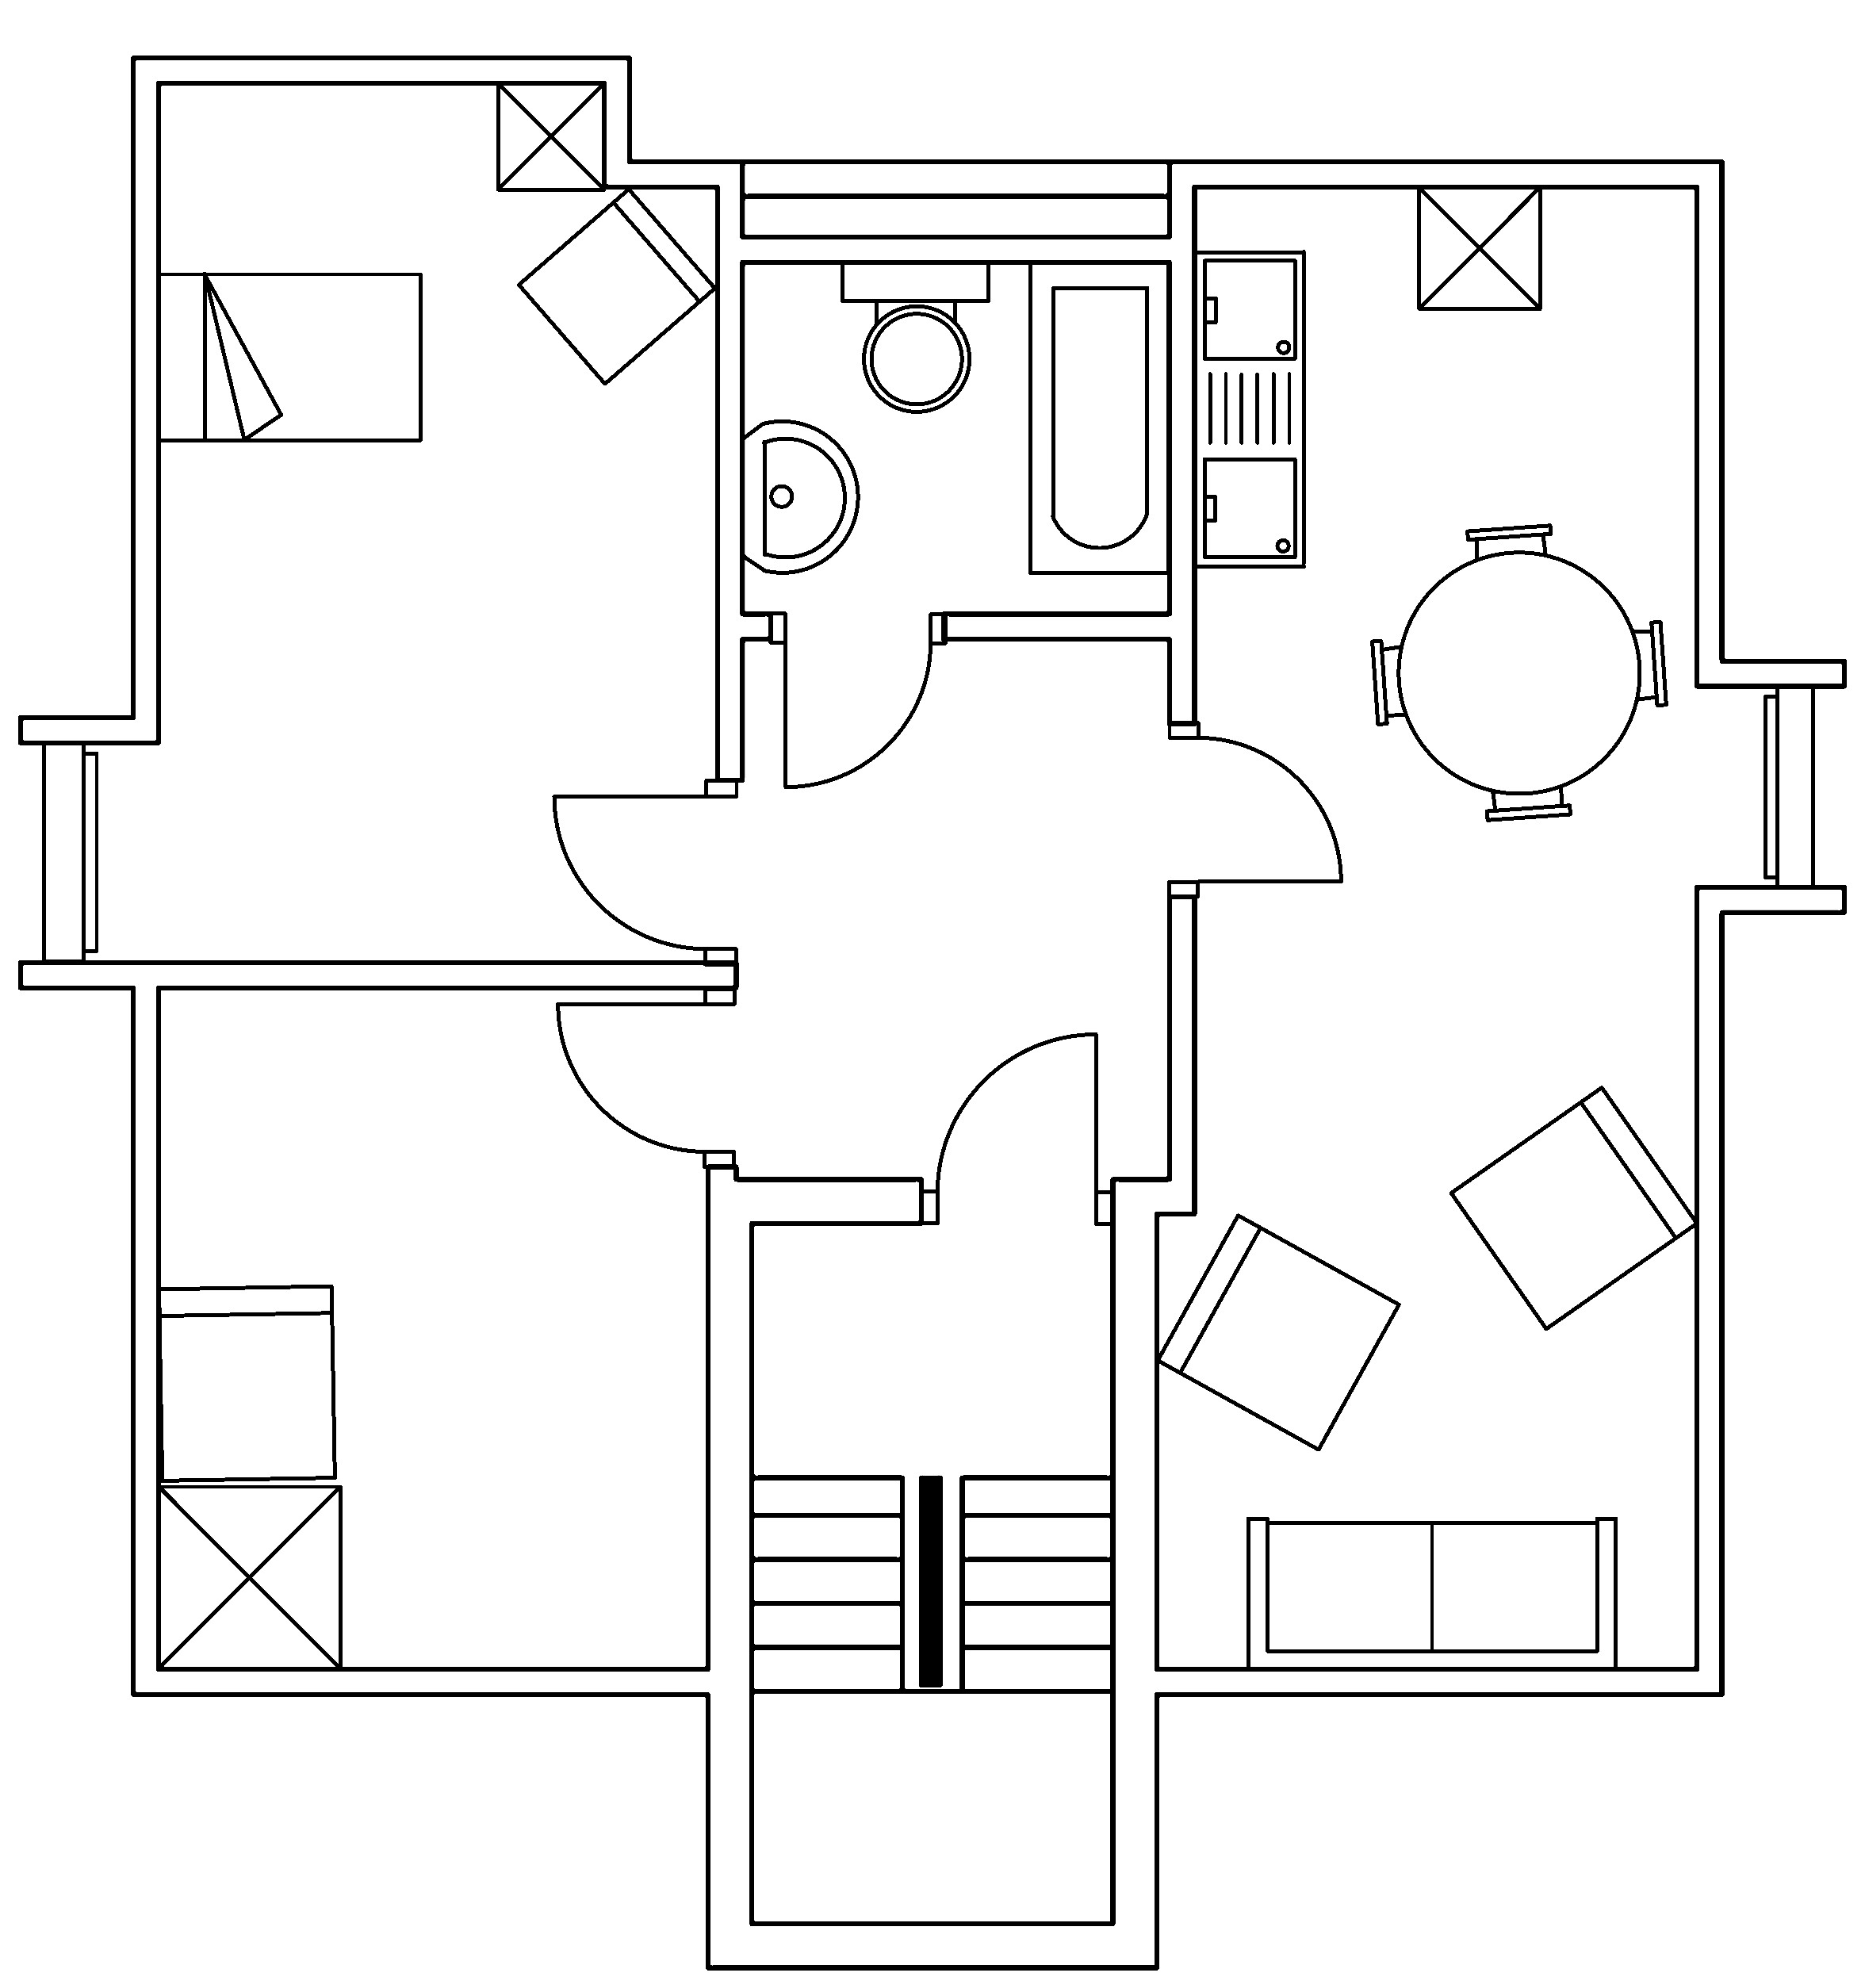bed: (154, 270, 422, 444)
coffee_table: (154, 1481, 342, 1671), (1416, 182, 1542, 310), (494, 79, 606, 191)
large_sink: (840, 258, 990, 412)
large_sofa: (1245, 1515, 1618, 1672)
round_table: (1369, 522, 1669, 822)
small_sink: (740, 419, 859, 573)
small_sofa: (1448, 1083, 1698, 1331), (1153, 1211, 1401, 1452), (515, 186, 717, 386), (156, 1282, 337, 1483)
tub: (1027, 258, 1171, 575)
twin_sink: (1192, 247, 1308, 570)
